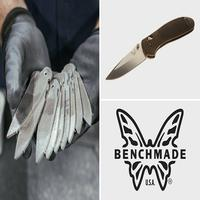knife: (10, 62, 106, 176), (102, 4, 197, 88)
